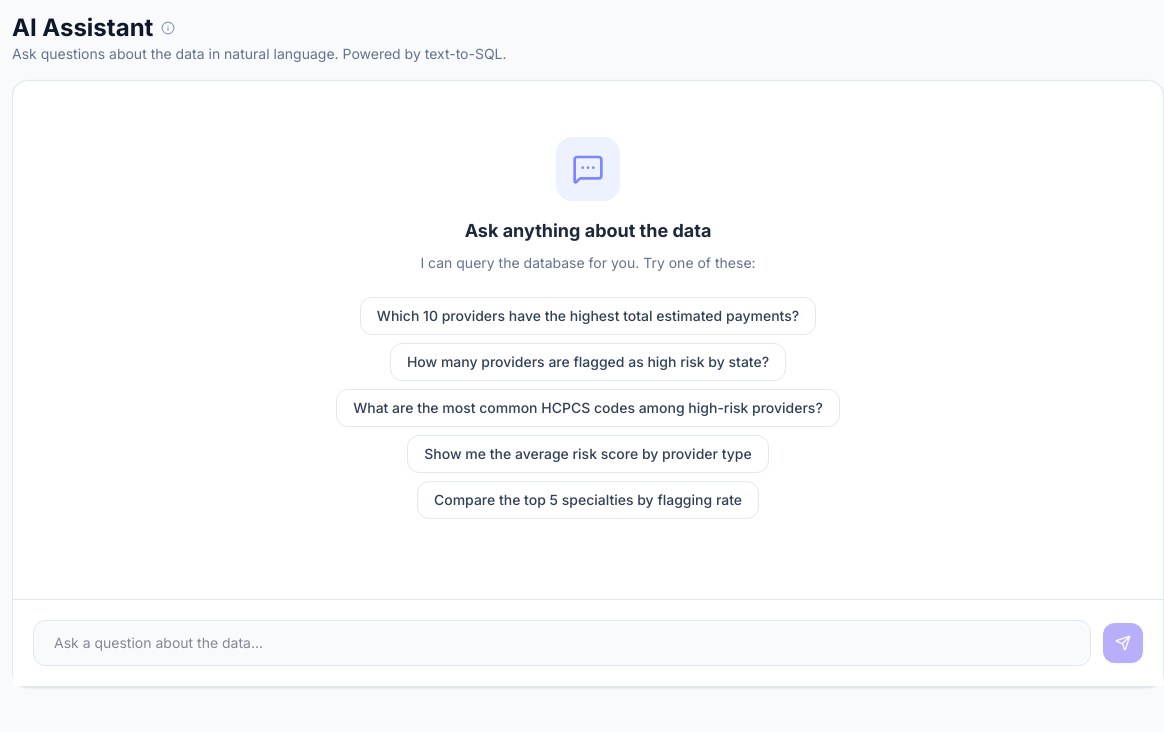
Test case: Analytics › disables the send button for blank input and enables it for typed input
Check: the button named "Send analytics question" is disabled, box x1=1103 y1=623 x2=1143 y2=663
Type "Show me average risk score by state" into the field labelled "Ask a question about the data" at [562, 643], box x1=33 y1=620 x2=1091 y2=666
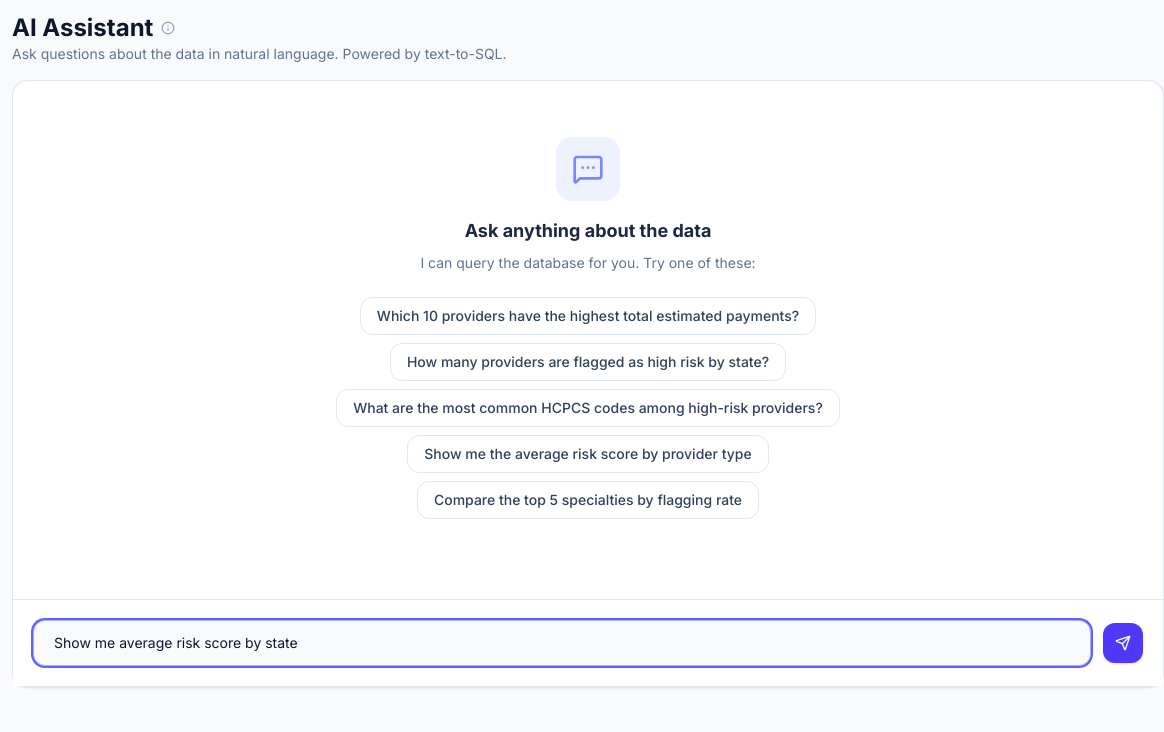
Check: the button named "Send analytics question" is enabled, box x1=1103 y1=623 x2=1143 y2=663
